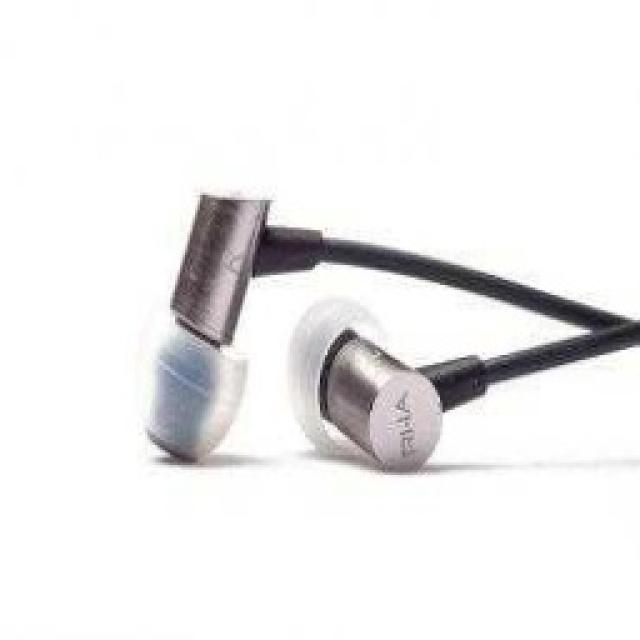headphones: (140, 190, 638, 472)
